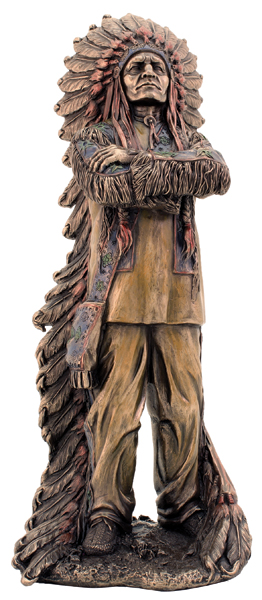person-like: (58, 10, 238, 566)
